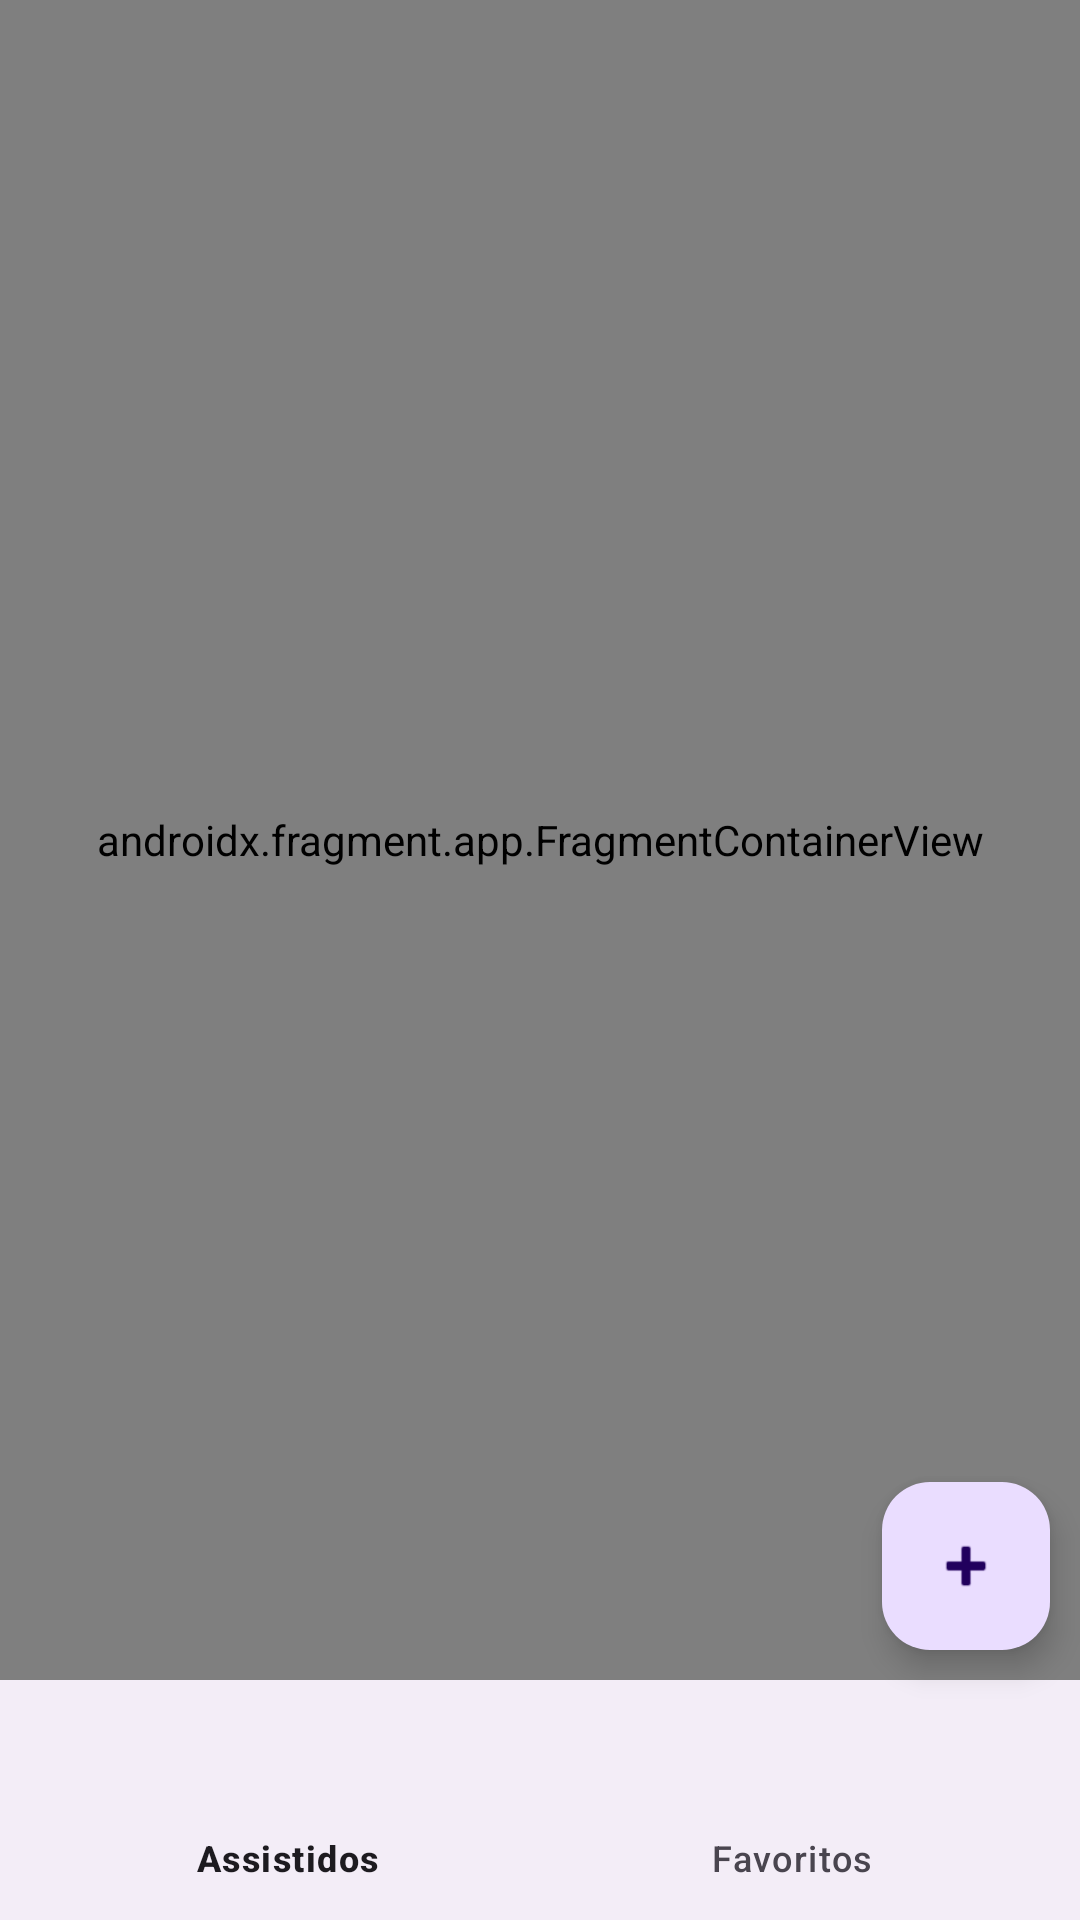

Where to tap for icons on this 1080x1920 app screen, as point (x, y):
add: point (966, 1566)
